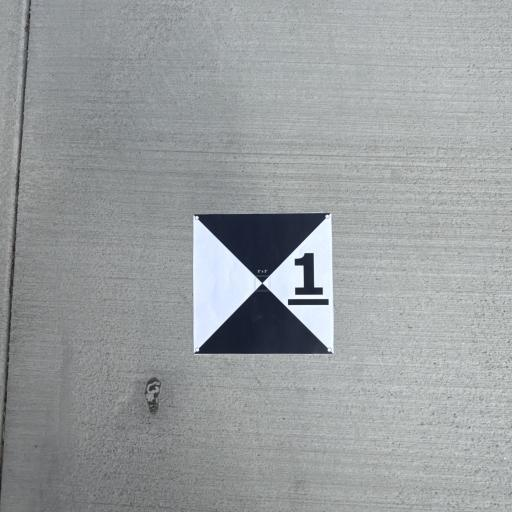target1: (192, 209, 340, 359)
